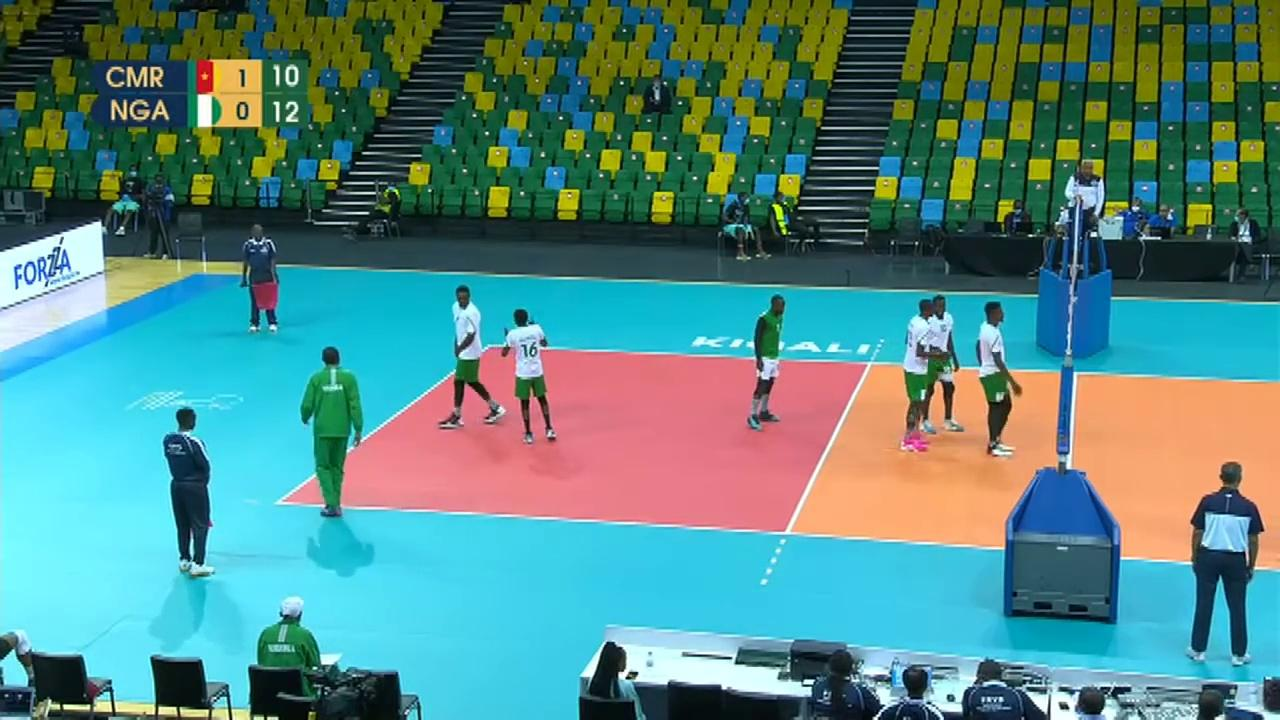player: (439, 285, 505, 425), (914, 294, 969, 441), (972, 304, 1022, 454), (739, 294, 789, 430), (501, 307, 552, 439), (897, 300, 937, 457)
refree: (1184, 461, 1268, 670), (157, 410, 214, 572), (242, 225, 282, 333), (1061, 159, 1104, 259)
